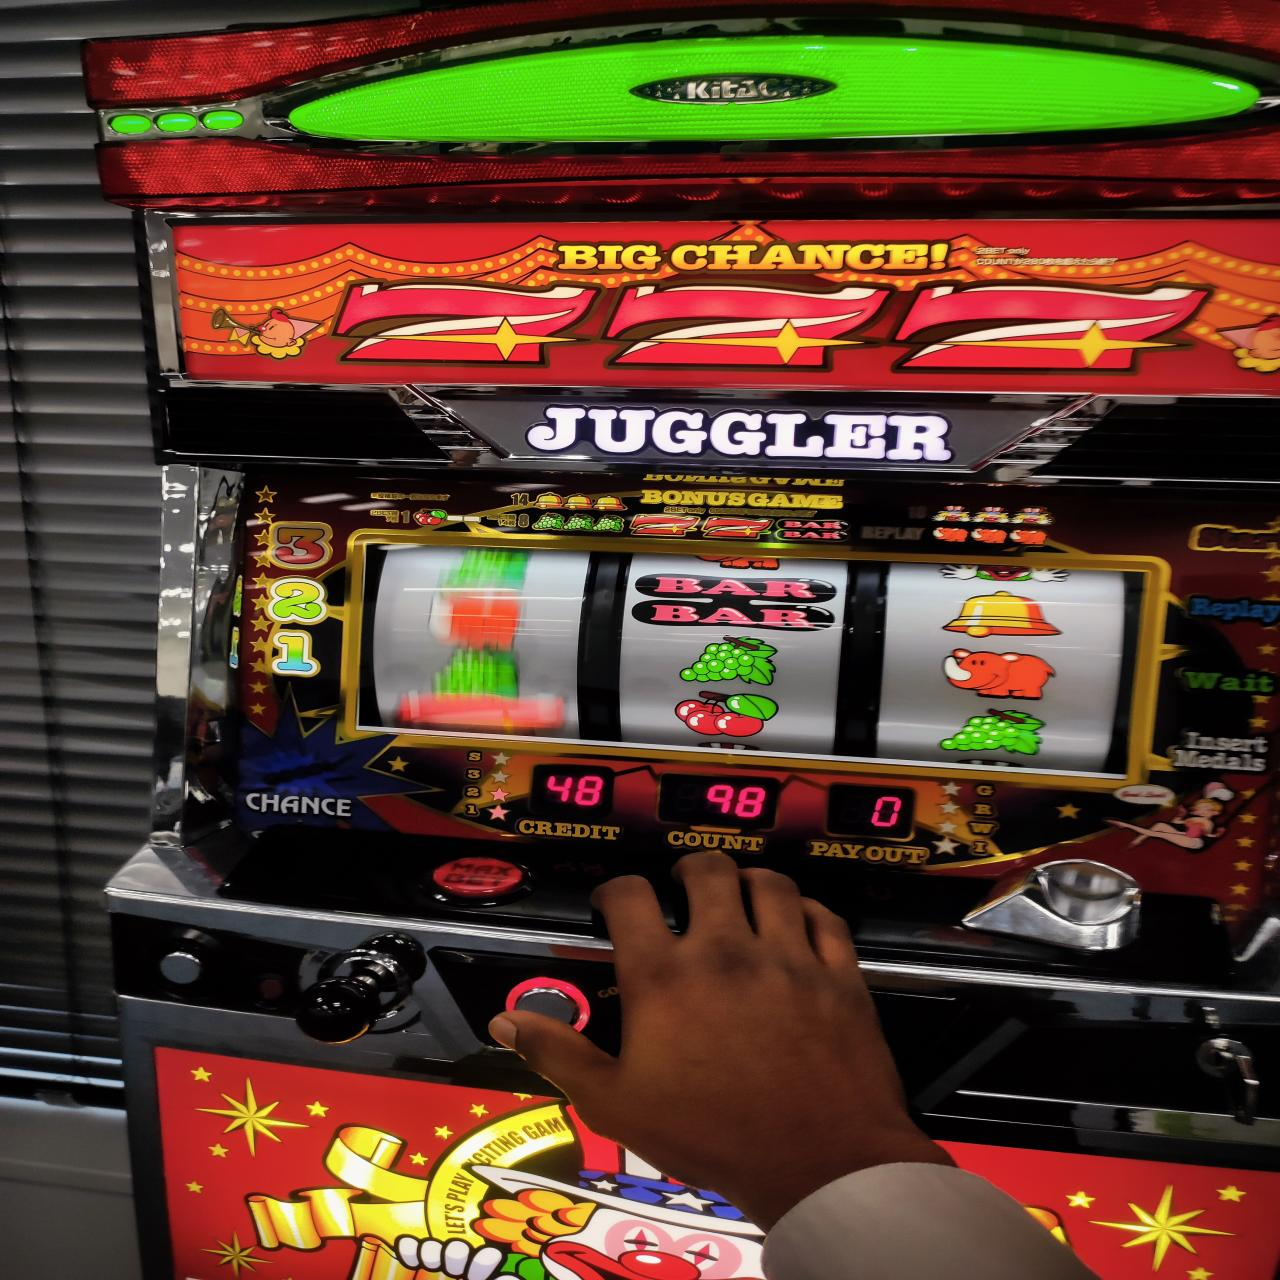8: (941, 646, 1057, 700)
bar: (633, 572, 839, 632)
bell: (944, 588, 1063, 639)
cherry: (673, 689, 781, 741)
grape: (940, 707, 1046, 757), (679, 634, 779, 685)
rhino: (350, 540, 1163, 781)
